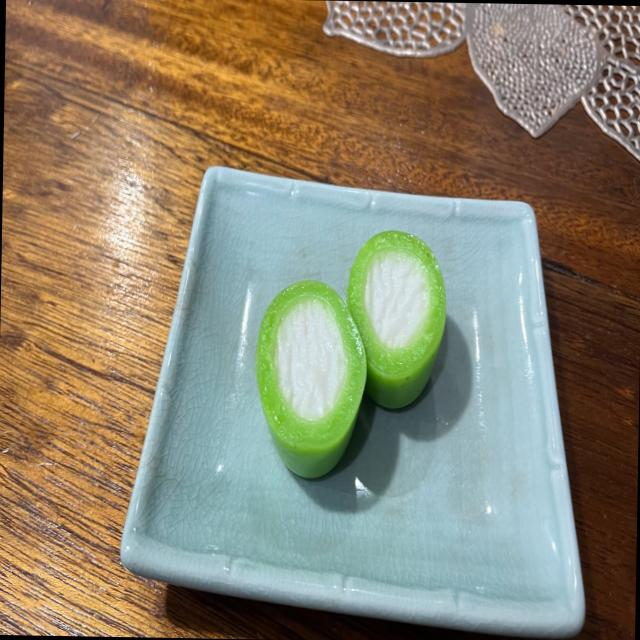nona-manis: (255, 280, 367, 478), (347, 230, 445, 408)
